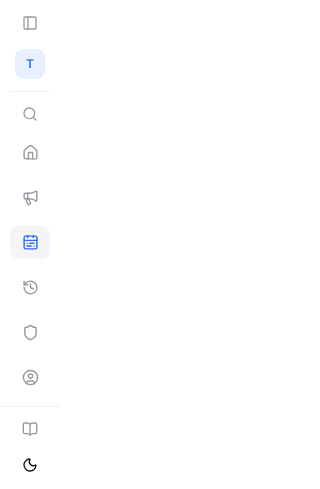
Test case: collapsed AppSidebar flyout navigation (#823) › marks Events aria-current="page" in the Planning flyout on /admin/planning/events, and no other flyout item
Press the mouse on the 4th button at (30,242), box left=10, top=226, right=50, bottom=259
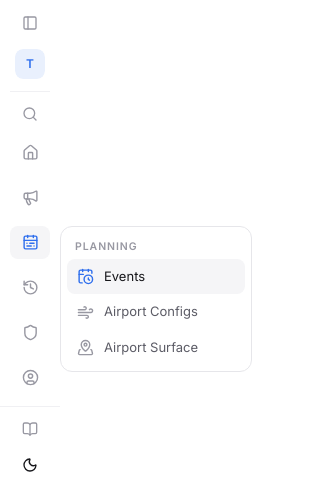
Now the menu is shown, box left=60, top=226, right=252, bottom=372
Now the text "Airport Configs" is shown, box left=104, top=303, right=198, bottom=319
